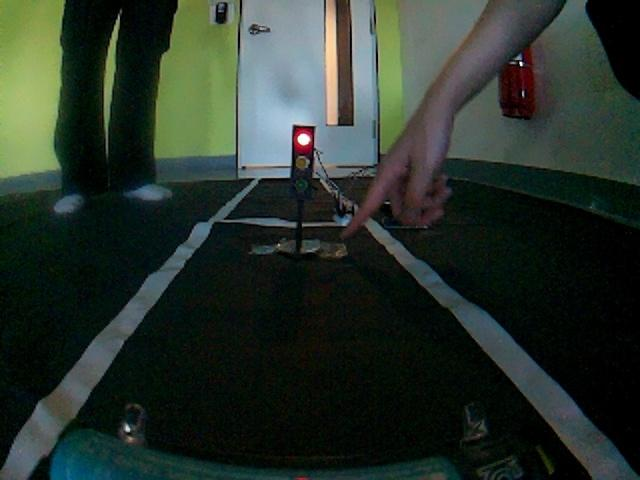go: (15, 238, 607, 480)
red_light: (223, 116, 343, 236)
